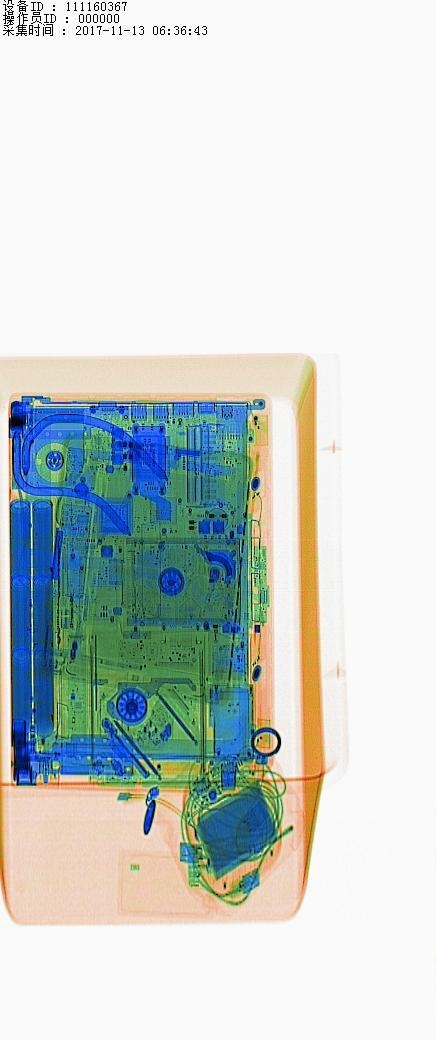coreless: (195, 773, 277, 865)
